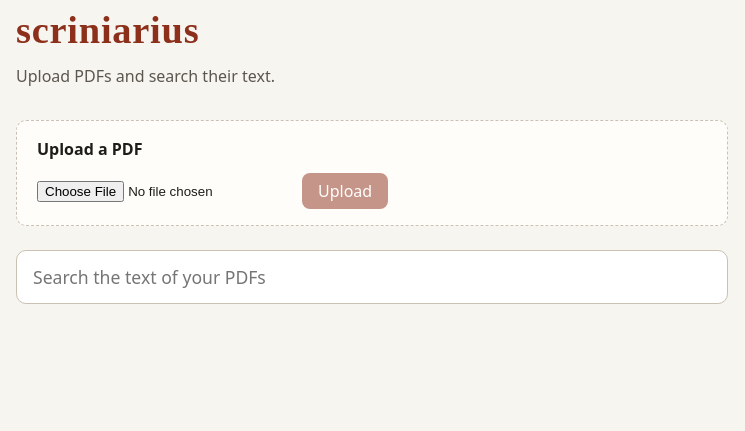
Scenario: shows HTML inside a fragment as text, never as markup
The image size is (745, 431).
Type "aardvark" into the search field labelled "Search" at (372, 277), box [16,250,728,304]
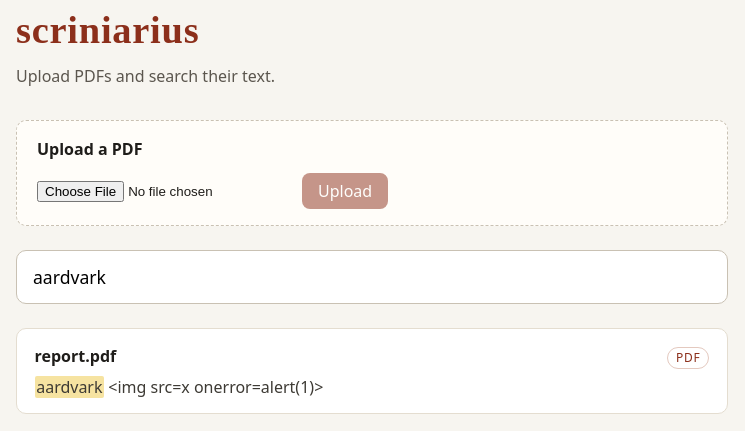
Result: the text "report.pdf" is shown at [35,344,116,368]
